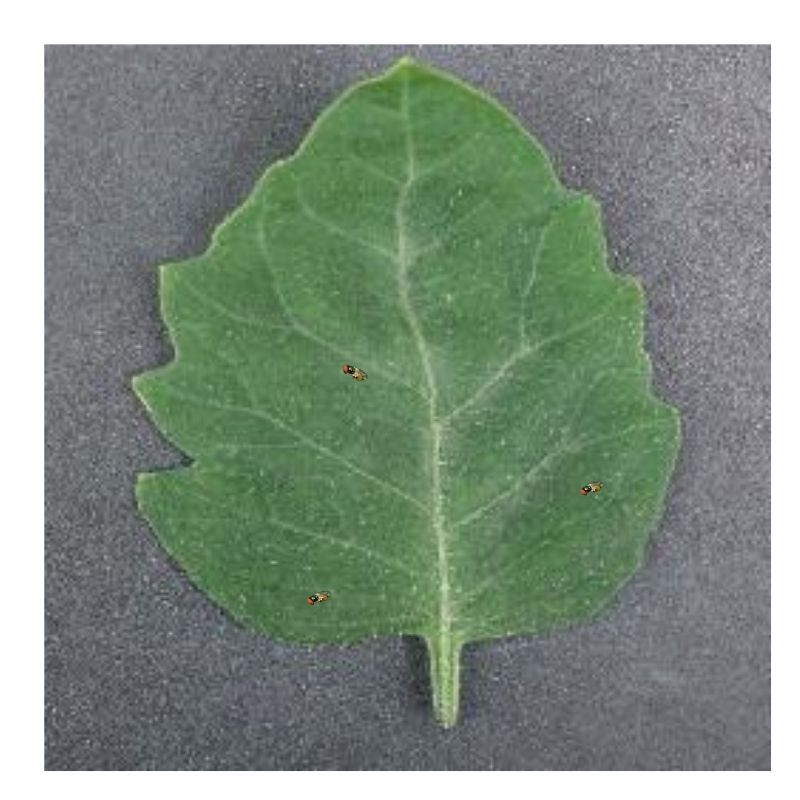liriomyza: (339, 362, 371, 382), (577, 478, 607, 495), (306, 589, 332, 607)
